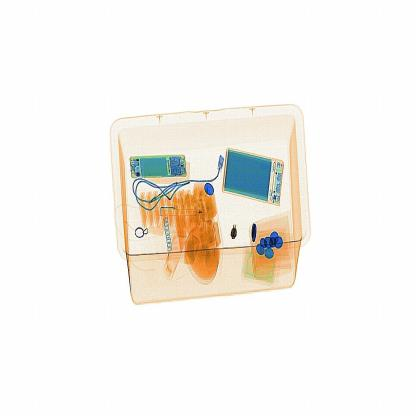wrench: (225, 219, 244, 245)
